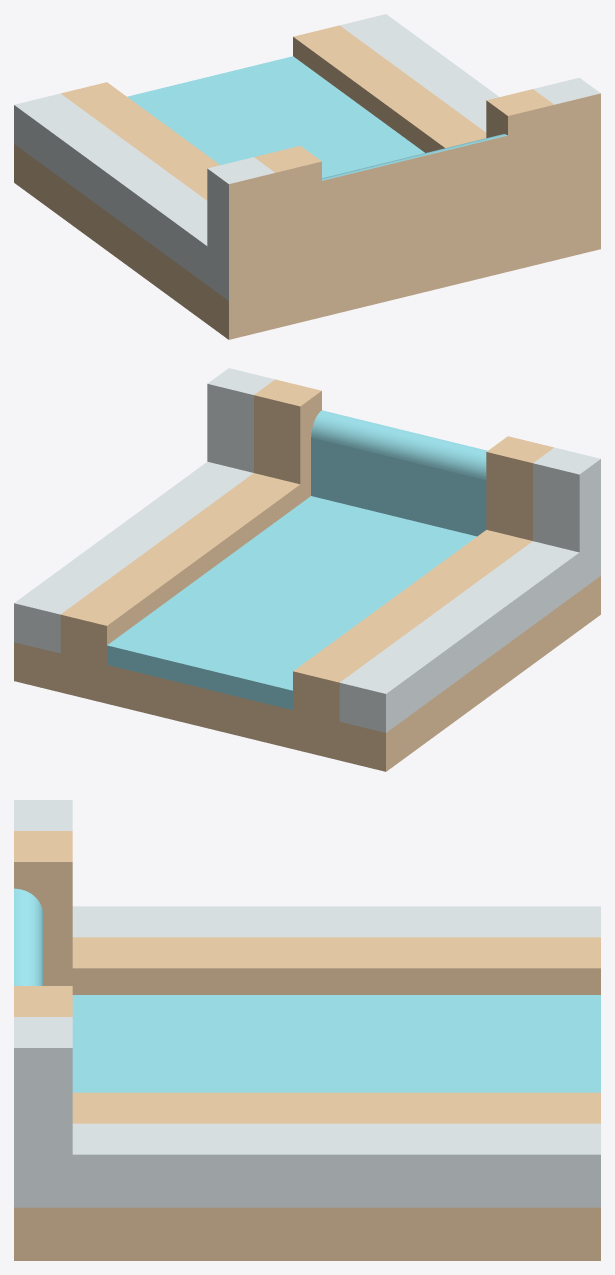
Rendered from snow_tile_riverFall.glb.
3 renders of one model, top to bottom at view 1: azimuth 30°, elevation 25°; view 2: azimuth 150°, elevation 25°; view 3: azimuth 270°, elevation 25°, orthographic. The views are drawn at different scales.
Visible parts, largest first — view 1: snow_tile_riverFall; view 2: snow_tile_riverFall; view 3: snow_tile_riverFall.
Boxes of the visible parts, bbox=[...] form: snow_tile_riverFall: bbox=[14, 14, 600, 339]; snow_tile_riverFall: bbox=[14, 368, 600, 771]; snow_tile_riverFall: bbox=[14, 800, 600, 1260].
Size of the model in its own units: 1 by 0.4 by 1.
